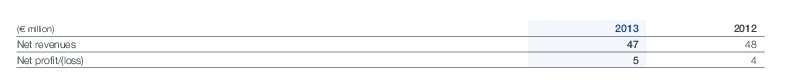table: (0, 0, 786, 84)
